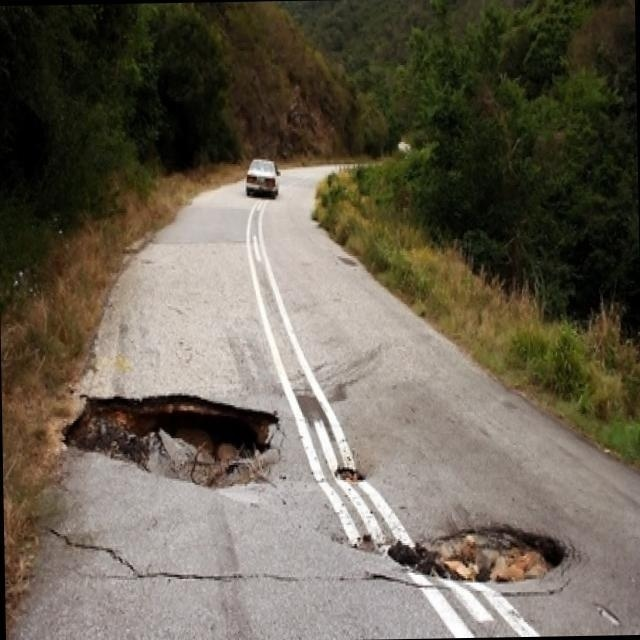pothole: (59, 369, 294, 507), (374, 503, 580, 601), (322, 456, 374, 493)
